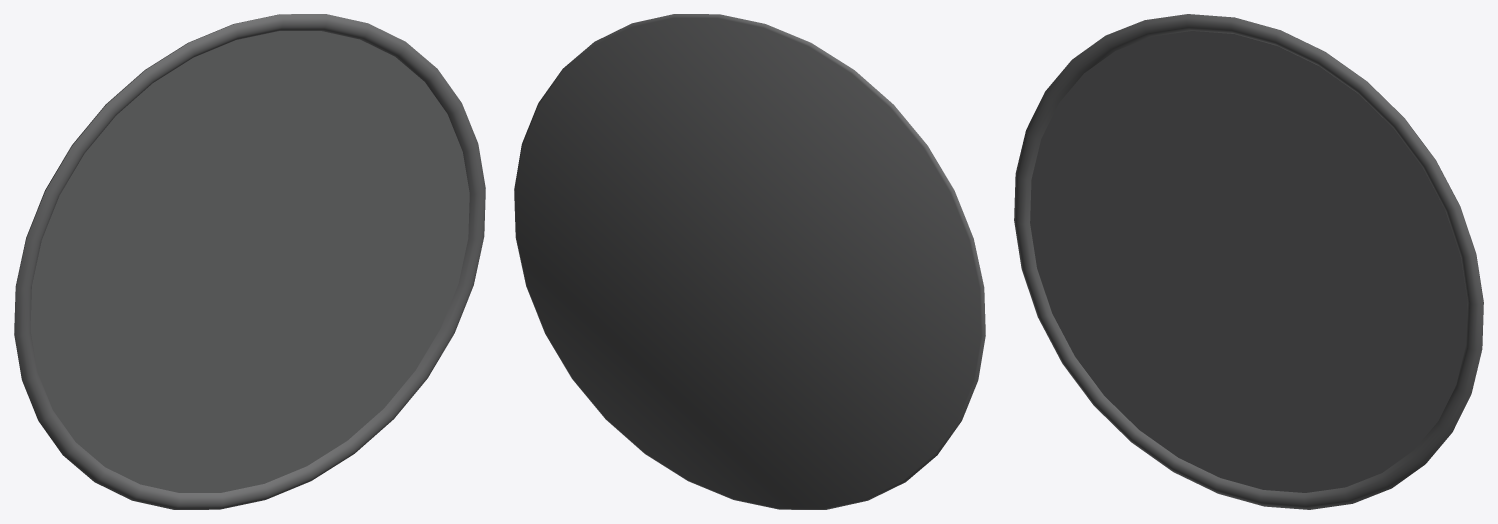
File: oven_right_group_main_model_1.obj
The picture shows the model from 3 angles, left to right: view 1: azimuth 30°, elevation 25°; view 2: azimuth 150°, elevation 25°; view 3: azimuth 330°, elevation 25°; orthographic projection.
Bounding box in the file's own units: 0.3636 × 0.3565 × 0.00627.
1 material, 1 textured.
